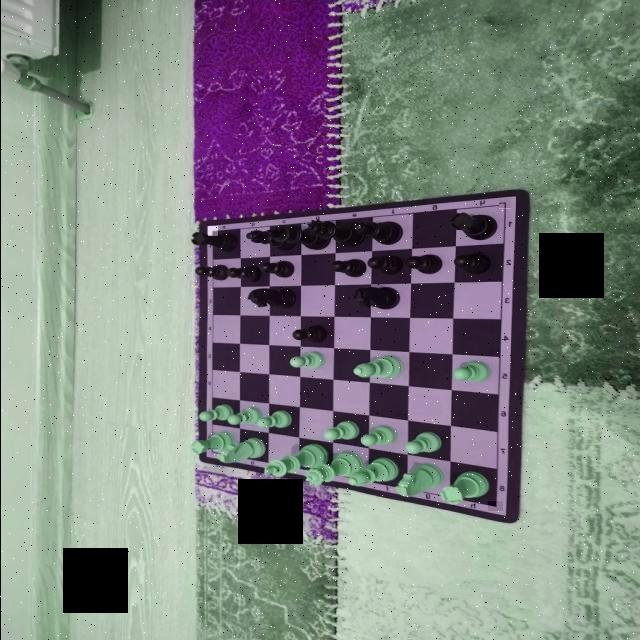chess-table-corners: (487, 501, 502, 511), (498, 200, 510, 210), (207, 226, 217, 236), (207, 448, 217, 456)
